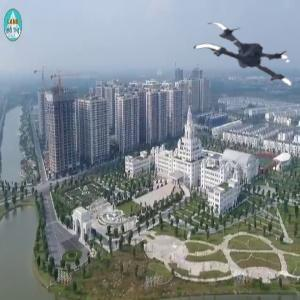drone: (192, 13, 295, 116)
